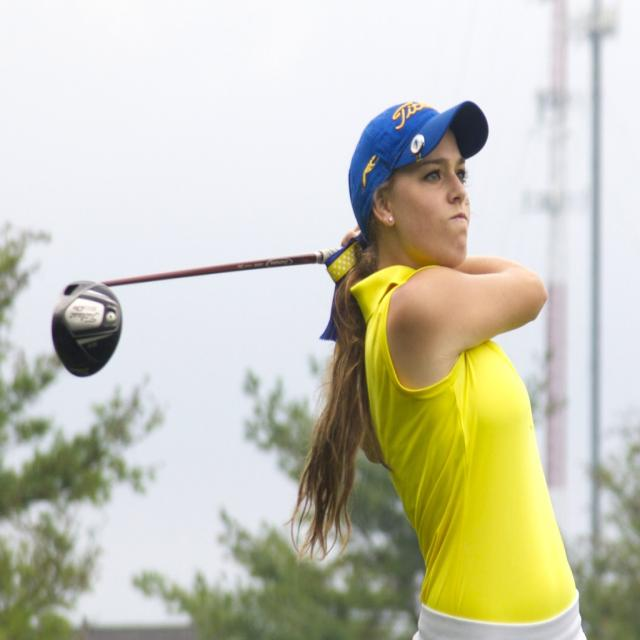no_helmet: (354, 143, 499, 202)
